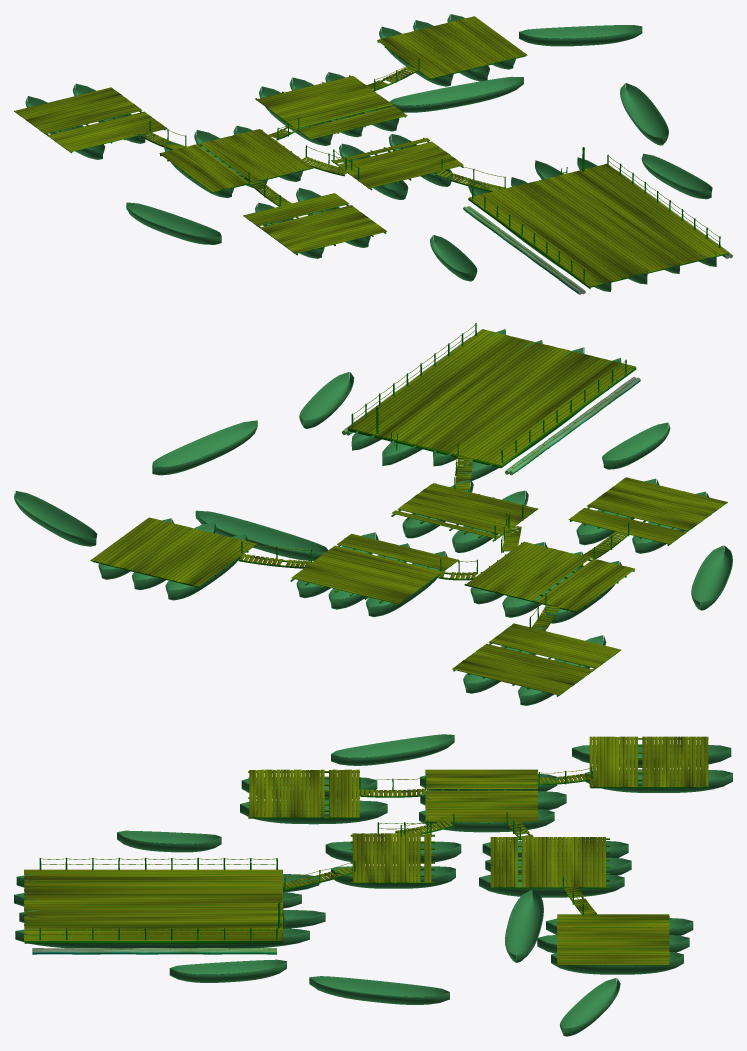
The model's file is arena_raft_deck.glb.
3 renders of one model, top to bottom at view 1: azimuth 30°, elevation 25°; view 2: azimuth 150°, elevation 25°; view 3: azimuth 270°, elevation 25°, orthographic. The views are drawn at different scales.
Parts seen in each view (by area): view 1: arena_raft_deck; view 2: arena_raft_deck; view 3: arena_raft_deck.
Part boxes in pixels (x1=…): arena_raft_deck: x1=14, y1=14, x2=732, y2=294; arena_raft_deck: x1=14, y1=323, x2=732, y2=705; arena_raft_deck: x1=14, y1=734, x2=732, y2=1036.
Size of what is drawn, in the model's own units: 53.15 by 3.58 by 54.65.
